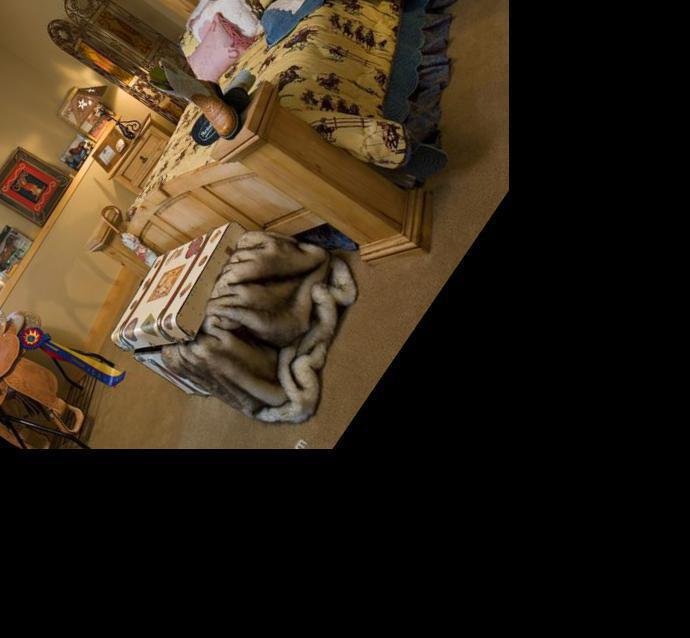Otro Obstaculo: (0, 296, 137, 470)
